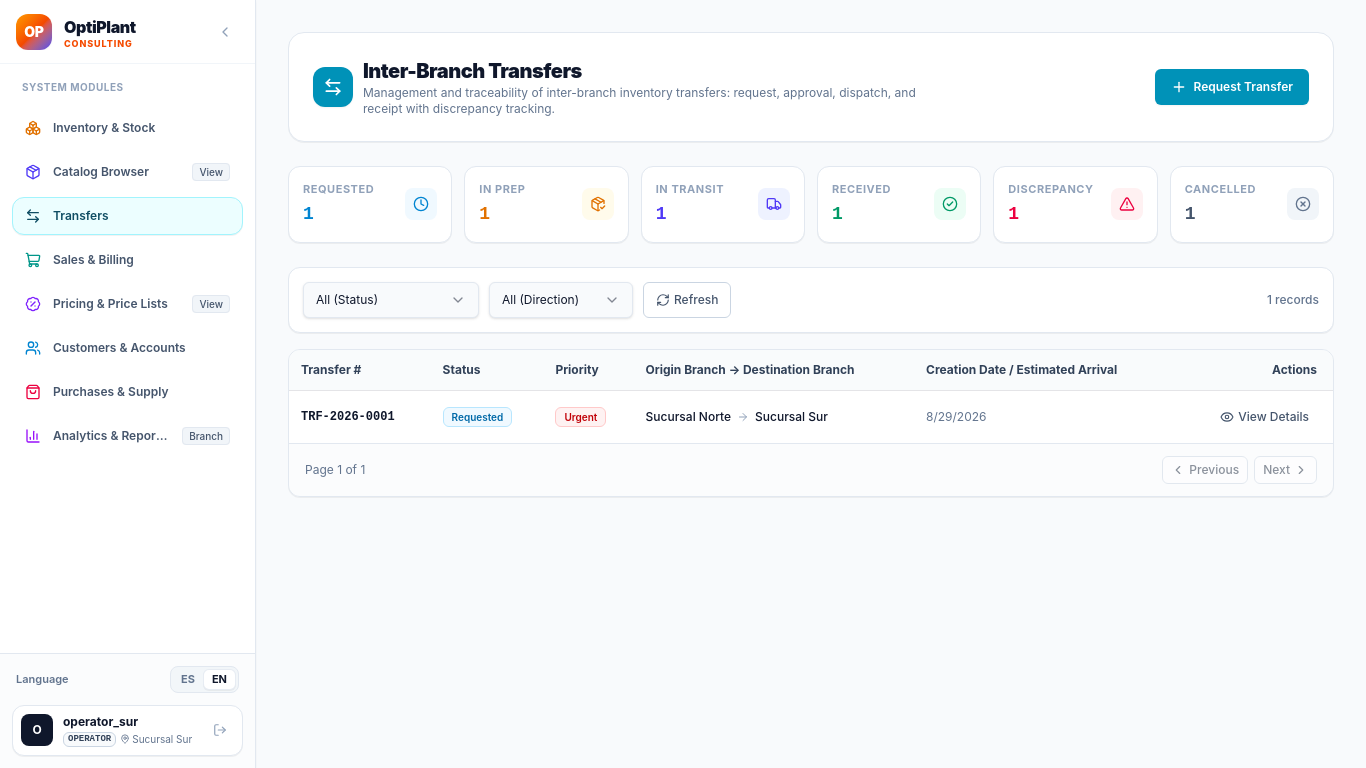
TransfersDashboard Component Tests › allows opening Transfer Request Dialog and creating new request
Click the button "Request Transfer". click: (1232, 87)
box: [1156,69,1309,105]
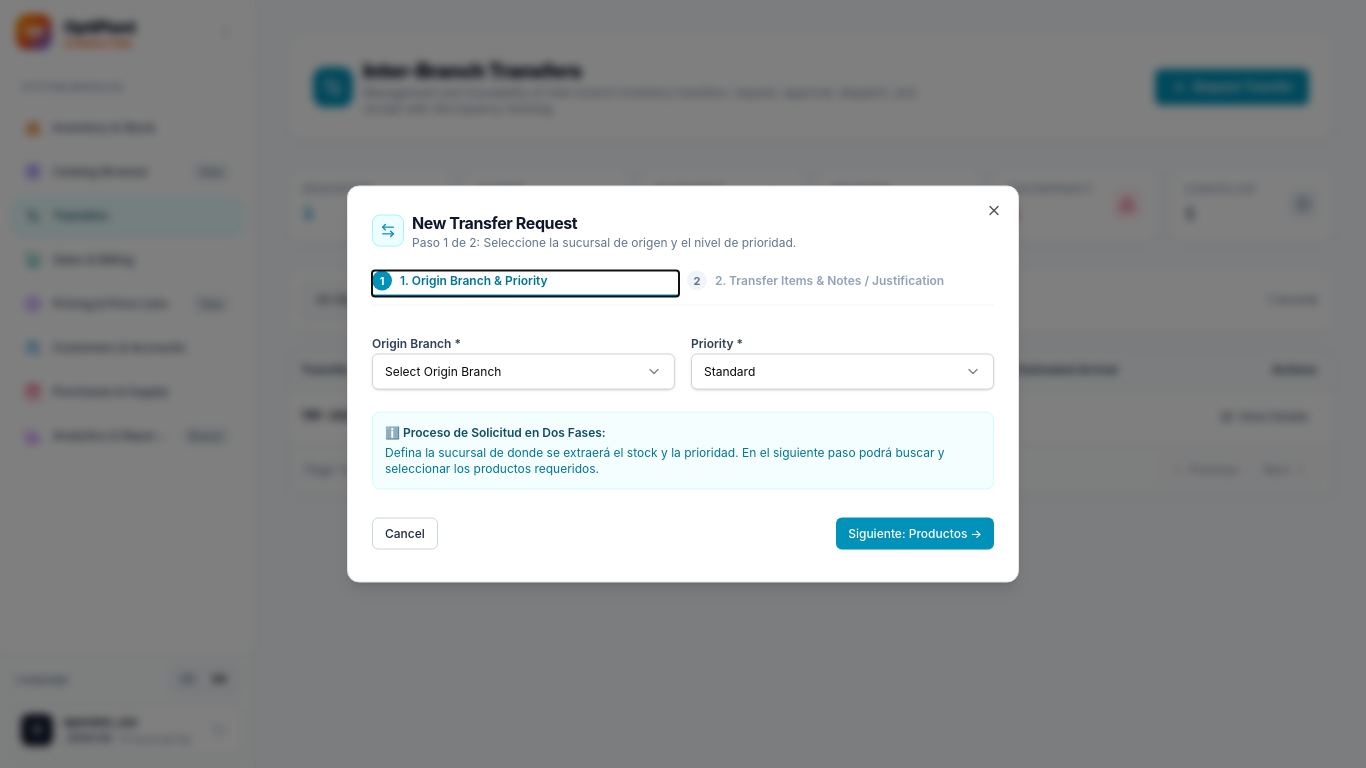
Expected: the heading "New Transfer Request" is shown, [412,212,577,232]
